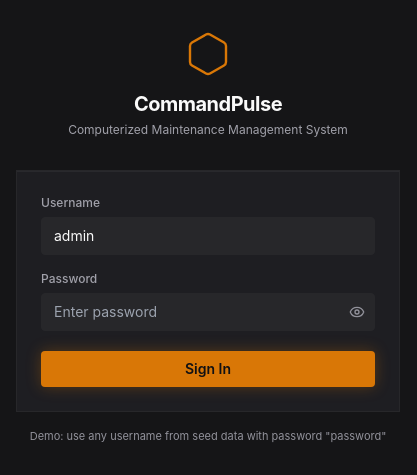
Test: LoginPage › surfaces the 429 rate-limit message from the API
The image size is (417, 475).
Replace the text in the field with "operator": (208, 236) x1=41 y1=217 x2=375 y2=255
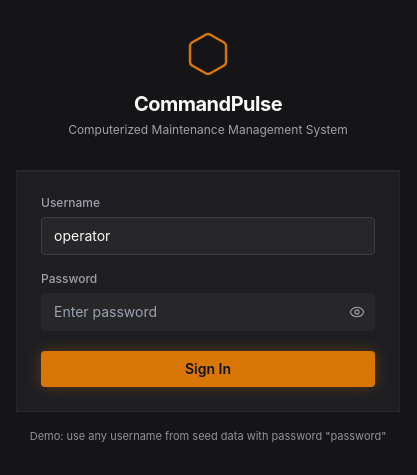
In the password field with placeholder "Enter password": (208, 312) x1=41 y1=293 x2=375 y2=331, type "password"
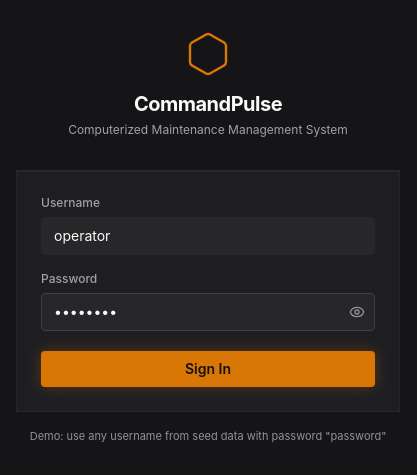
Click the button "Sign In": (208, 369) x1=41 y1=351 x2=375 y2=387
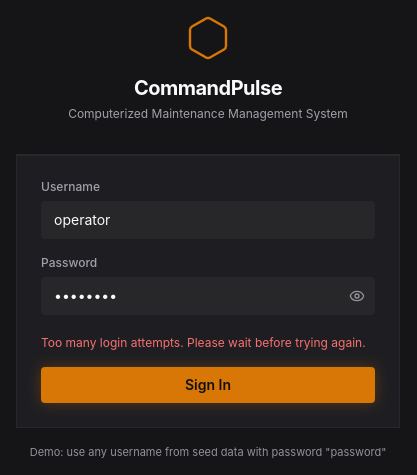
Check: the text "Too many login attempts. Please wait before trying again." is shown, box x1=41 y1=335 x2=375 y2=351
